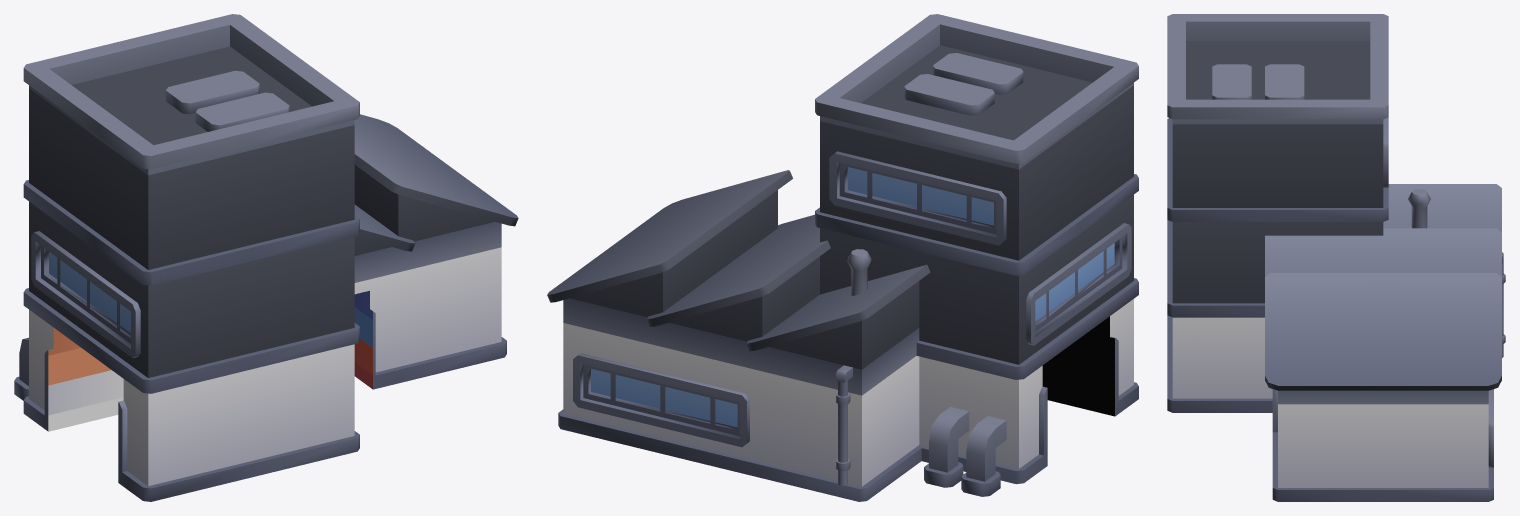
Rendered from building-g-enterable.glb.
3 views of the same model, side by side, from view 1: azimuth 30°, elevation 25°; view 2: azimuth 150°, elevation 25°; view 3: azimuth 270°, elevation 25° (orthographic). The views are drawn at different scales.
Parts seen in each view (by area): view 1: building-g-enterable; view 2: building-g-enterable; view 3: building-g-enterable.
Boxes of the visible parts, <box> form: building-g-enterable: <box>14,14,518,501</box>; building-g-enterable: <box>547,14,1138,501</box>; building-g-enterable: <box>1167,14,1505,501</box>.
Size of the model in its own units: 1.68 by 1.28 by 1.28.
1 material, 1 textured.
